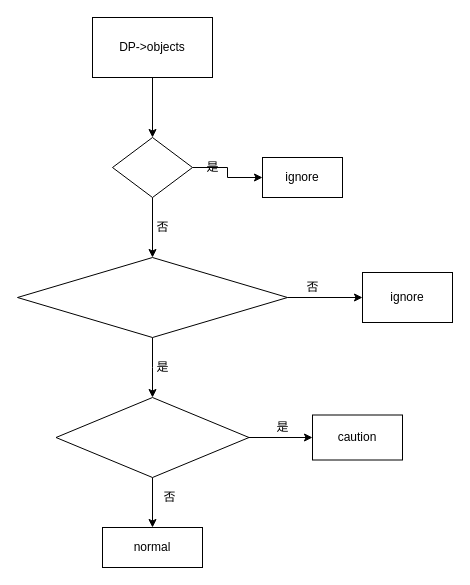
Image size: 470x585. Some labels were removed from this diagram. Here are the shapes that lost their labels. From the top down, the centre of each, then its label:
At point 152,167: "is_static".
At point 152,297: "is_in_scan_box || is_onlane || is_near_junction || is_pedestrain_in_front_lane".
At point 152,437: "ego_to_obj_dis < threshold 障碍物距自车距离".
